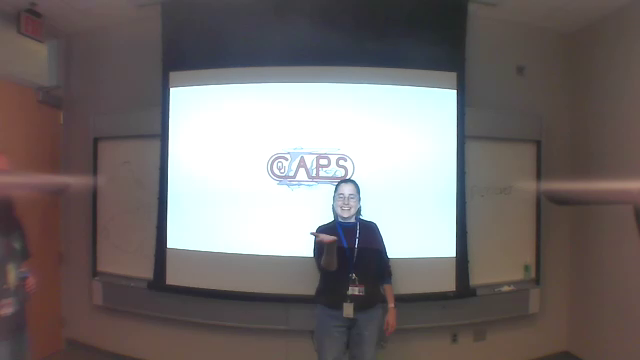land: (306, 228, 341, 249)
